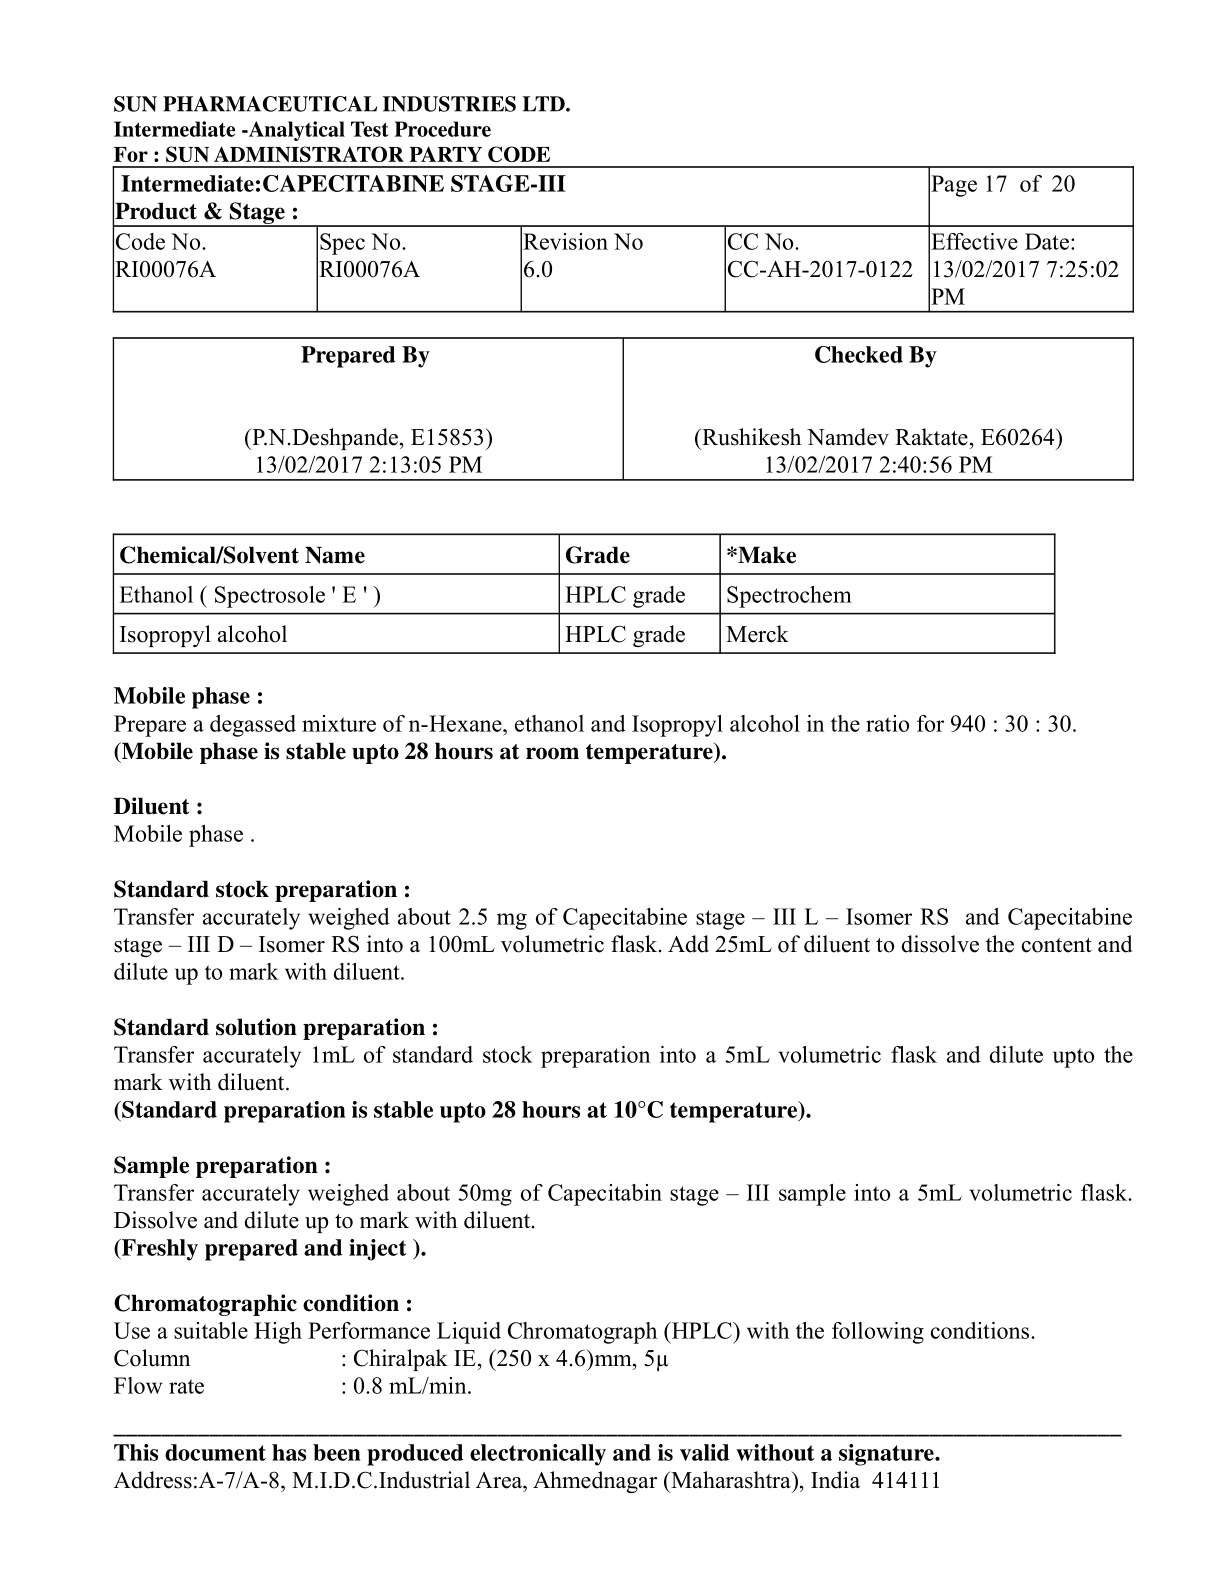full_lined: (112, 336, 1135, 482), (112, 534, 1056, 656)
merged_cells: (112, 166, 1135, 314)
